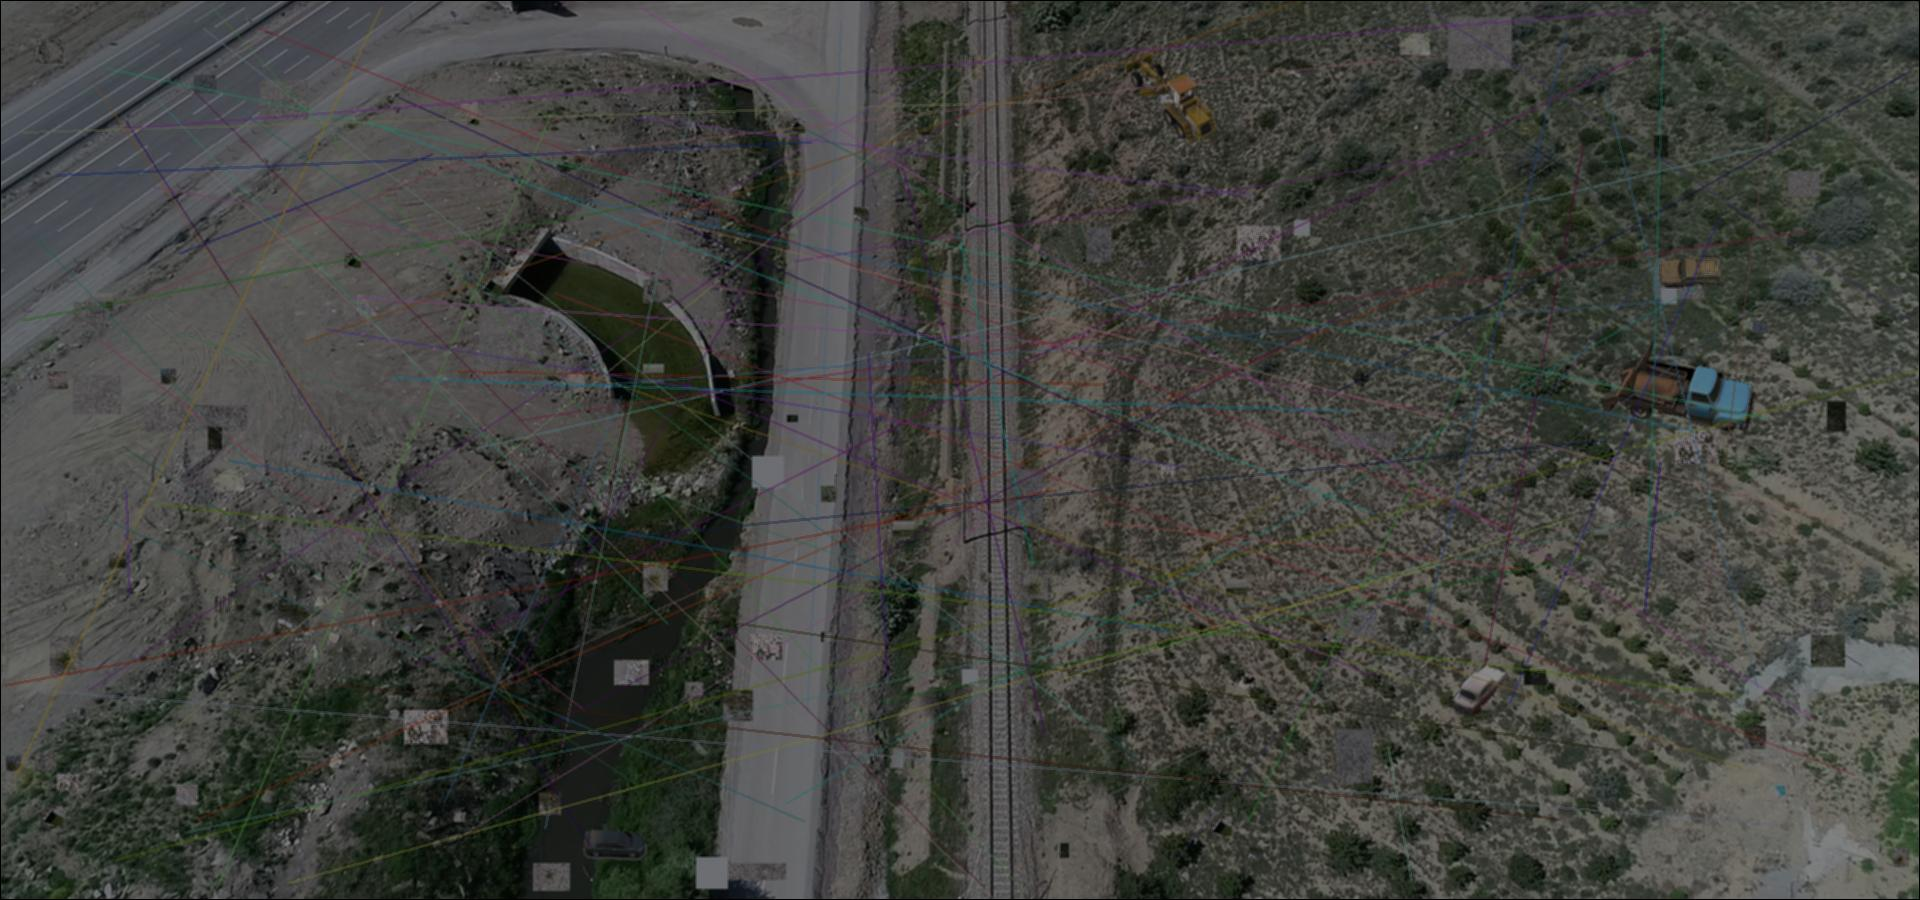arac: (1596, 336, 1755, 437), (1120, 51, 1218, 147), (1449, 661, 1510, 718), (1659, 253, 1725, 290), (583, 829, 648, 861)
